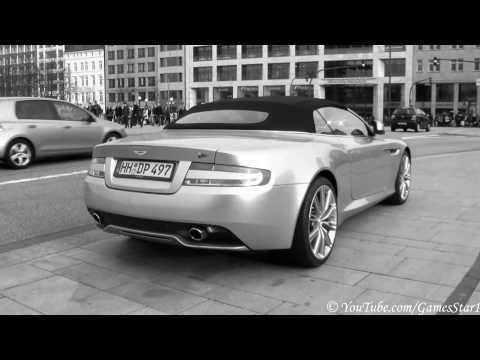car: (82, 95, 416, 268)
